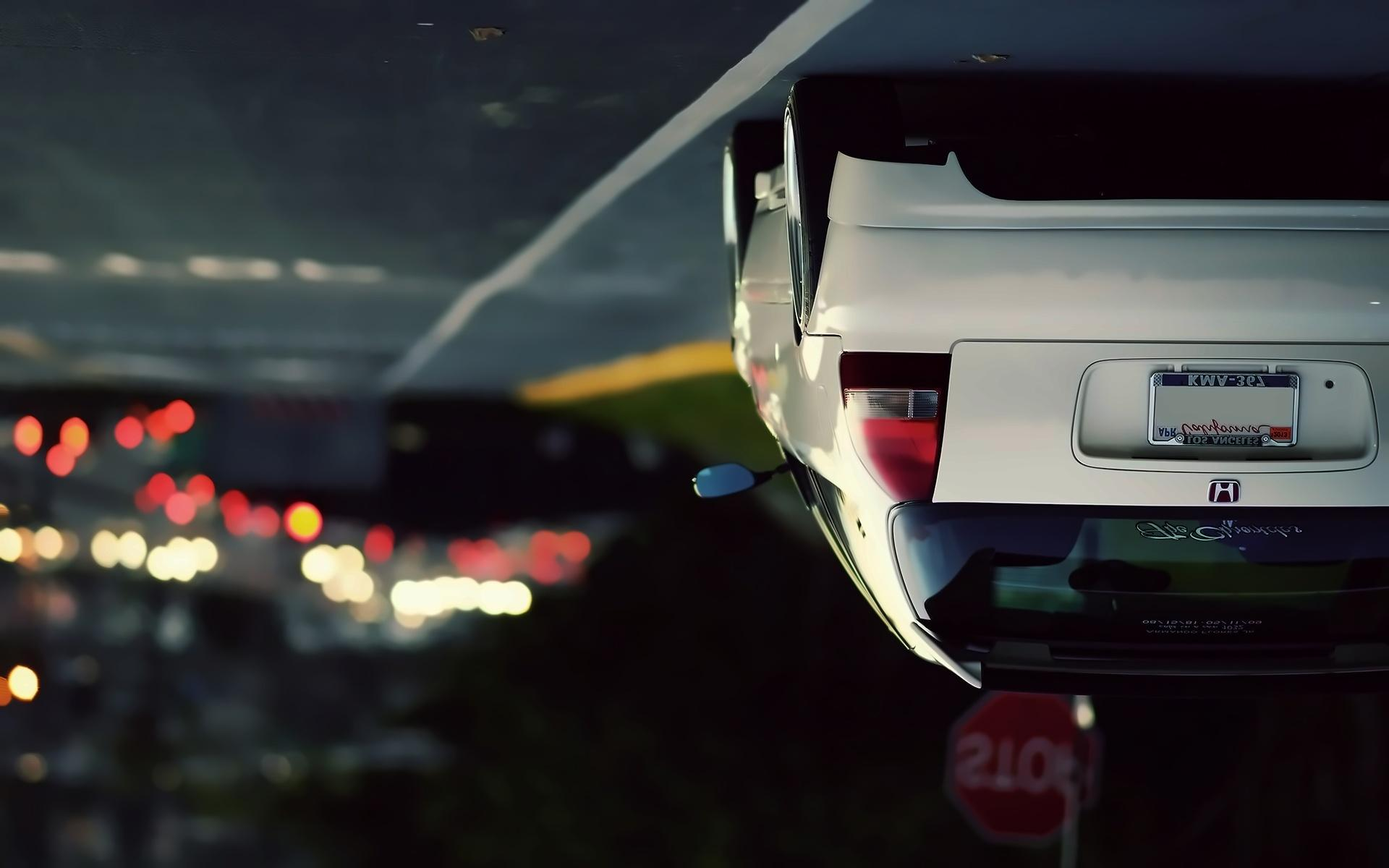Car boot: (883, 333, 1389, 695)
Rear bumper: (789, 113, 1389, 349)
Rear light - -R-: (836, 346, 970, 523)
Side mirror - -R-: (673, 437, 804, 509)
